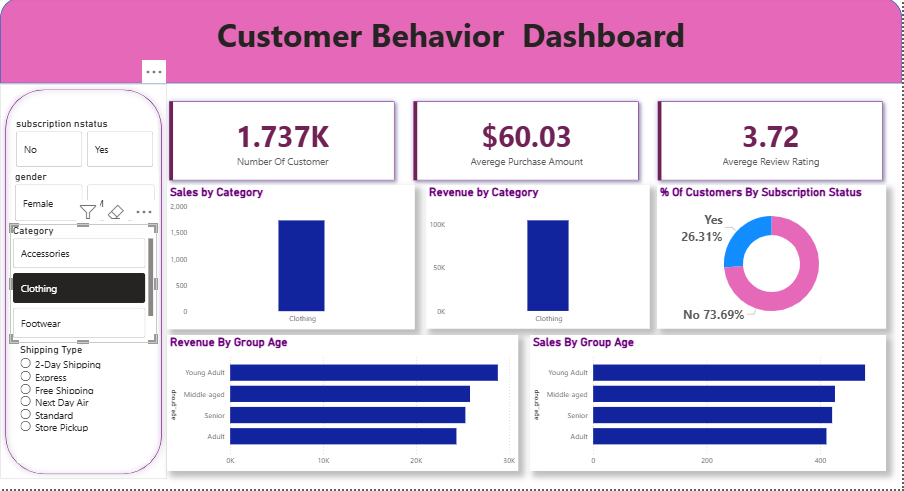

What the dashboard file says about the page in this screenshot:
{"tool":"powerbi","page":{"name":"Page 1","canvas":[1500,820],"ordinal":0},"visuals":[{"type":"cardVisual","fields":{"Data":["customer.Number Of Customer","customer.Averege Purchase Amount","customer.Averege Review Rating"]},"box":[253.2,143.9,1246.8,189.9],"z":0},{"type":"shape","box":[0,0,1500,143.7],"z":1000},{"type":"textbox","box":[0,19.7,1500,124],"z":2000},{"type":"clusteredColumnChart","title":"Revenue by Category","fields":{"Y":["Sum(customer.purchase_amount)"],"Category":["customer.category"]},"box":[707.8,312.7,372.1,239.8],"z":3000},{"type":"clusteredColumnChart","title":"Sales by Category","fields":{"Category":["customer.category"],"Y":["CountNonNull(customer.customer_id)"]},"box":[278.1,312.7,412.4,239.8],"z":4000},{"type":"donutChart","title":"% Of Customers By Subscription Status","fields":{"Category":["customer.subscription_status"],"Y":["CountNonNull(customer.customer_id)"]},"box":[1104.9,312.7,381.7,239.8],"z":5000},{"type":"shape","box":[0,143.9,278.1,657.9],"z":6000},{"type":"advancedSlicerVisual","fields":{"Values":["customer.subscription_status"]},"box":[21.1,199.5,239.8,88.2],"z":7000},{"type":"advancedSlicerVisual","fields":{"Values":["customer.gender"]},"box":[19.2,287.7,243.6,90.2],"z":8000},{"type":"advancedSlicerVisual","fields":{"Values":["customer.category"]},"box":[17.3,377.9,243.6,197.6],"z":9000},{"type":"listSlicer","fields":{"Values":["customer.shipping_type"]},"box":[28.8,575.4,220.6,199.5],"z":10000},{"type":"clusteredBarChart","title":"Revenue By Group Age","fields":{"Y":["Sum(customer.purchase_amount)"],"Category":["customer.age_group"]},"box":[278.1,575.4,583.1,226.3],"z":11000},{"type":"clusteredBarChart","title":"Sales By Group Age","fields":{"Y":["CountNonNull(customer.customer_id)"],"Category":["customer.age_group"]},"box":[893.9,575.4,592.7,226.3],"z":12000}]}

Visuals, with their boxes in screenshot pixels (x1, y1, x2, y2), scaled from the page's 1500x820 canvas onto the 904x491 screenshot:
cardVisual - customer.Number Of Customer x customer.Averege Purchase Amount: Rect(153, 86, 903, 200)
shape: Rect(0, 0, 903, 86)
textbox: Rect(0, 12, 903, 86)
"Revenue by Category" clusteredColumnChart: Rect(427, 187, 651, 331)
"Sales by Category" clusteredColumnChart: Rect(168, 187, 416, 331)
"% Of Customers By Subscription Status" donutChart: Rect(666, 187, 896, 331)
shape: Rect(0, 86, 168, 480)
advancedSlicerVisual - customer.subscription_status: Rect(13, 119, 157, 172)
advancedSlicerVisual - customer.gender: Rect(12, 172, 158, 226)
advancedSlicerVisual - customer.category: Rect(10, 226, 157, 345)
listSlicer - customer.shipping_type: Rect(17, 345, 150, 464)
"Revenue By Group Age" clusteredBarChart: Rect(168, 345, 519, 480)
"Sales By Group Age" clusteredBarChart: Rect(539, 345, 896, 480)
